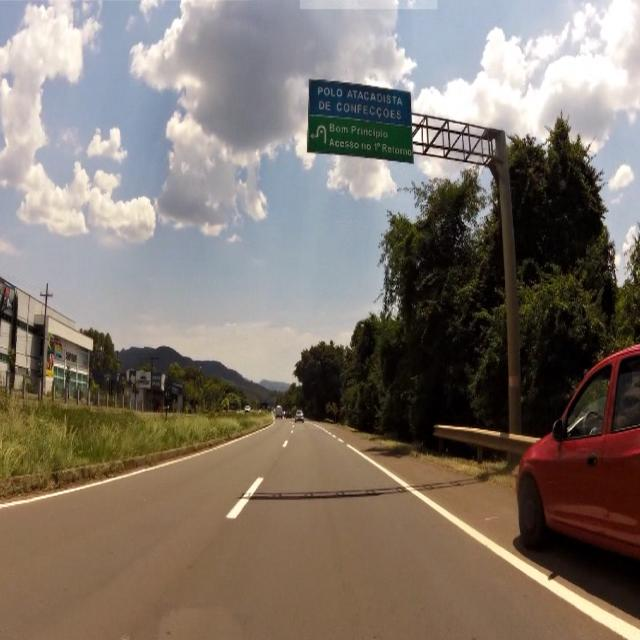I-4: (307, 122, 414, 153)
LOC-6: (312, 80, 410, 119)
